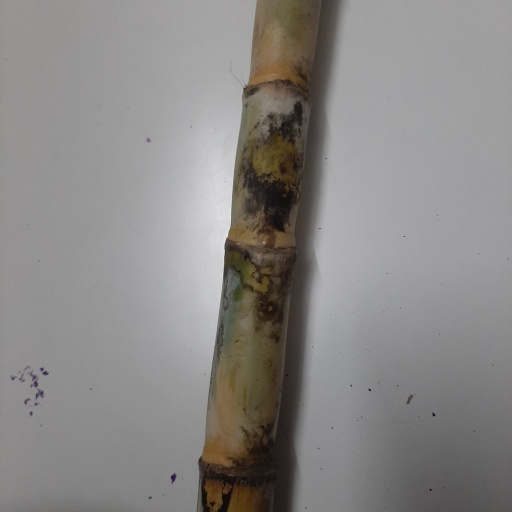Bud: (256, 229, 276, 249)
